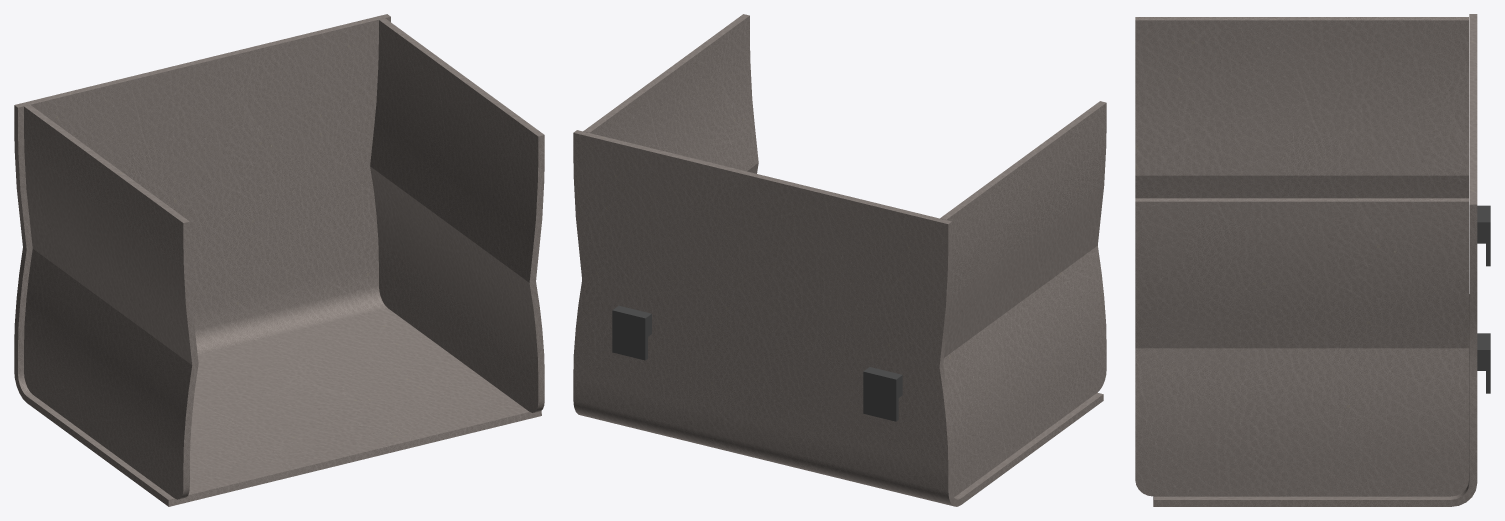
3 renders of one model, left to right at view 1: azimuth 30°, elevation 25°; view 2: azimuth 150°, elevation 25°; view 3: azimuth 270°, elevation 25°, orthographic. The views are drawn at different scales.
Visible parts, largest first — view 1: box2; view 2: box2; view 3: box2.
Part boxes in pixels (x1,y1,x2,y2): box2: (14,14,544,506); box2: (573,14,1106,506); box2: (1135,14,1490,506).
Bounding box in the file's own units: 0.2704 × 0.2 × 0.2132.
Materials: 2 (1 with a texture image).
